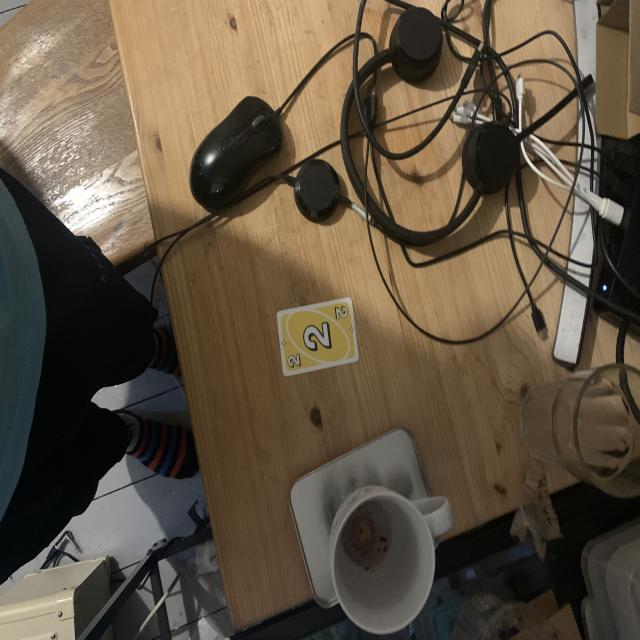lyellow-2: (332, 304, 348, 322)
